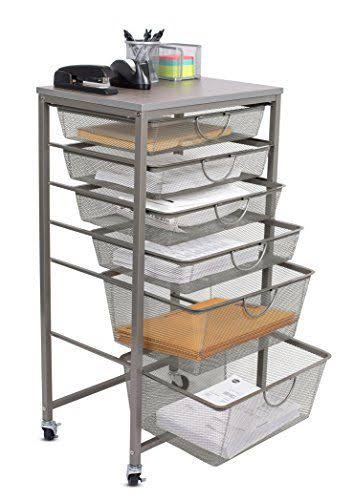Carts: (35, 73, 286, 488)
